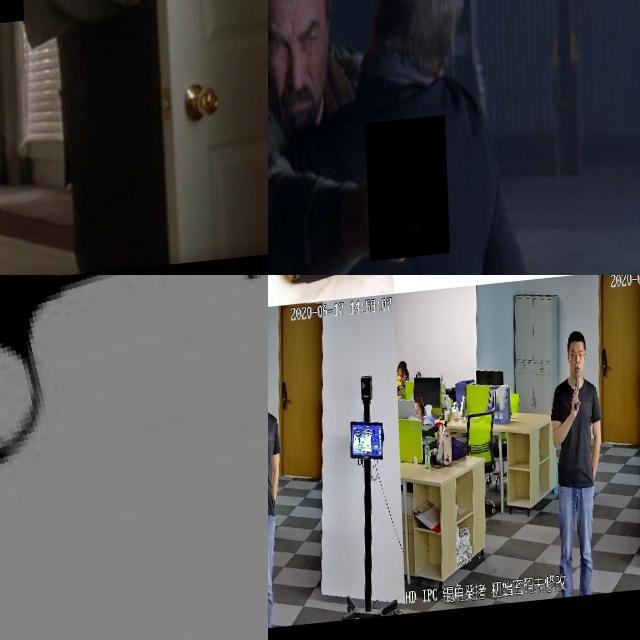gun-knife-thesis - v11 Yolov5 augmented: (0, 275, 268, 640), (399, 275, 640, 388), (268, 275, 373, 400), (362, 123, 446, 268), (0, 0, 70, 65), (566, 377, 576, 422), (268, 384, 272, 416)
